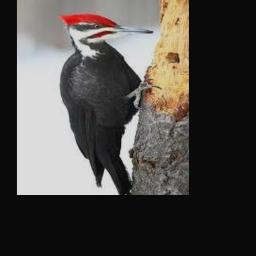Woodpecker: (60, 14, 161, 194)
